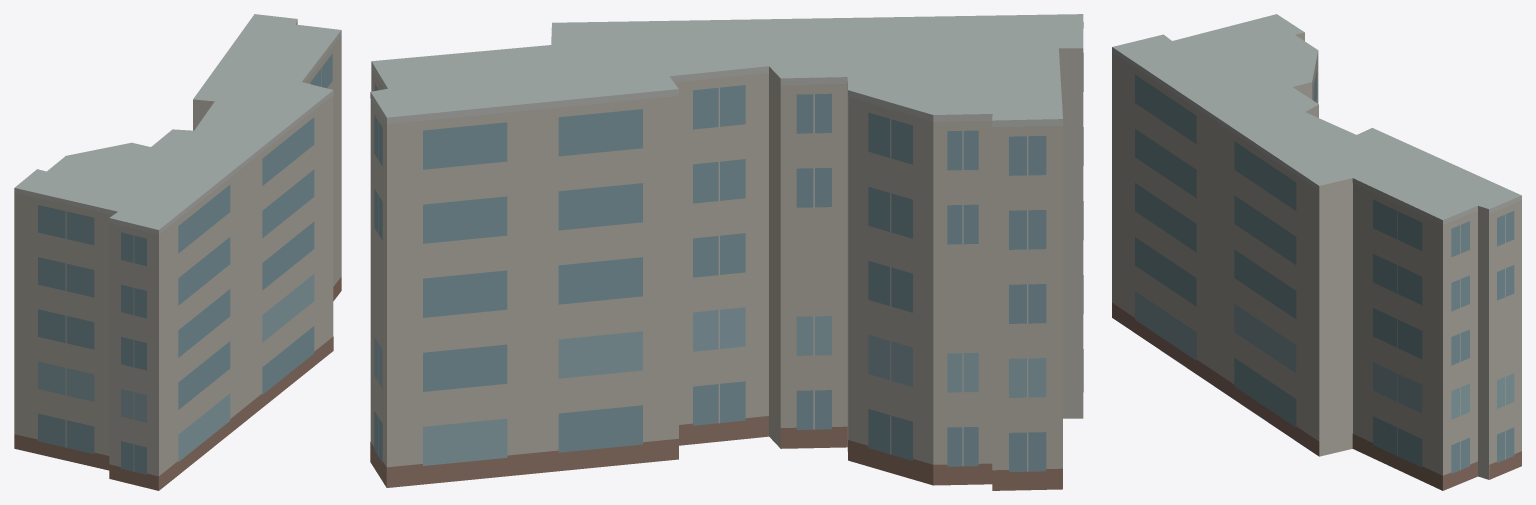
The model's file is survey-upis-32683811.glb.
3 renders of one model, left to right at view 1: azimuth 30°, elevation 25°; view 2: azimuth 150°, elevation 25°; view 3: azimuth 270°, elevation 25°, orthographic. The views are drawn at different scales.
Visible parts, largest first — view 1: survey-upis-32683811.tmp; view 2: survey-upis-32683811.tmp; view 3: survey-upis-32683811.tmp.
Boxes of the visible parts, x1,y1,x2,y2 form: survey-upis-32683811.tmp: [14, 14, 341, 490]; survey-upis-32683811.tmp: [370, 14, 1083, 490]; survey-upis-32683811.tmp: [1112, 14, 1521, 490].
Size of the model in its own units: 22.22 by 13.6 by 18.67.
